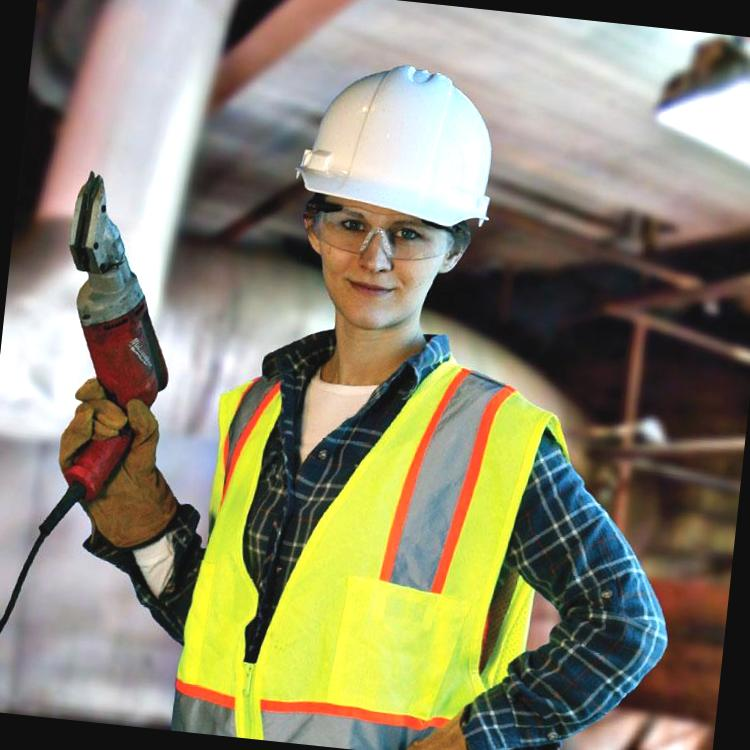helmet: (286, 54, 518, 252)
person: (141, 43, 632, 750)
